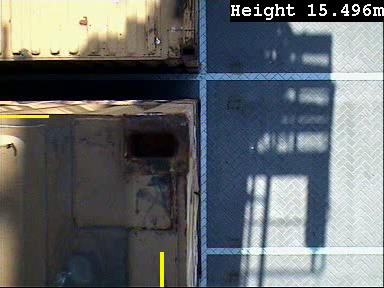groundmarker_2: (78, 21, 232, 121)
